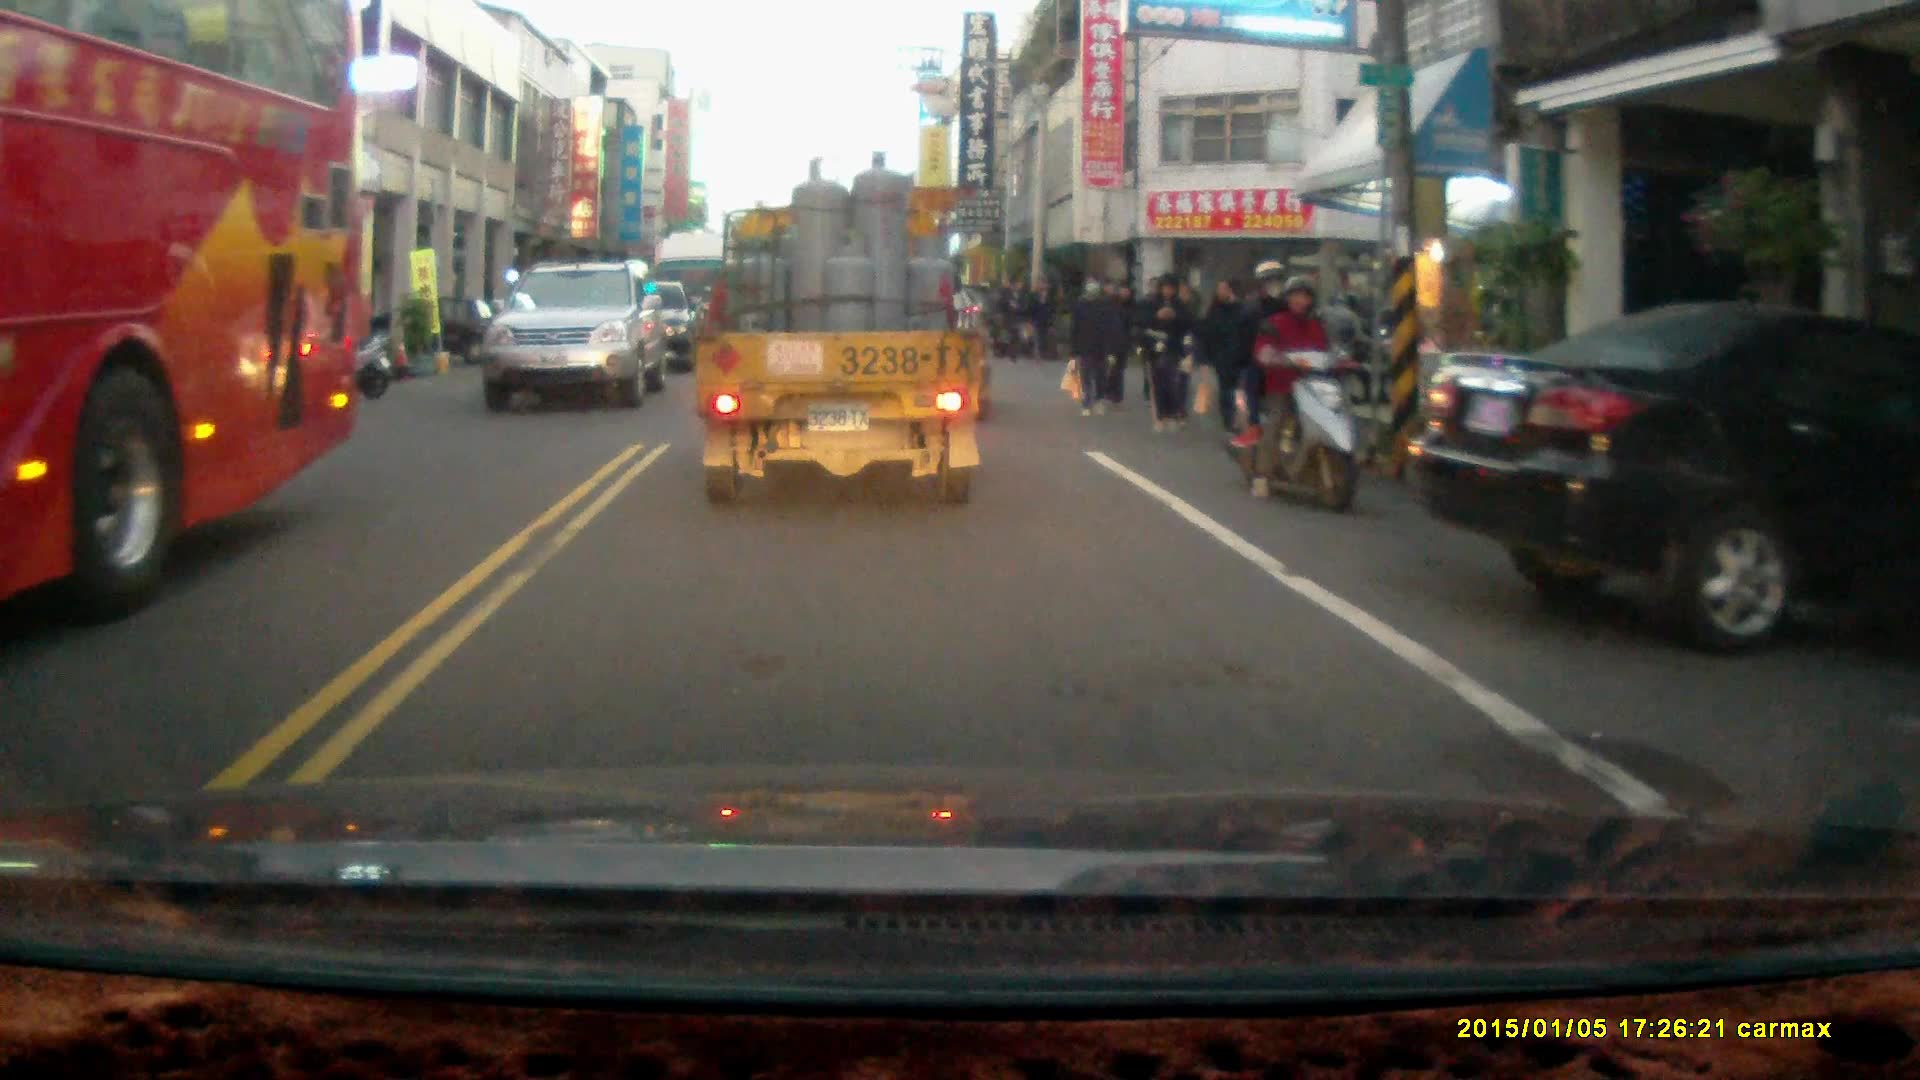pedestrian: (1192, 276, 1254, 440), (1145, 271, 1192, 436), (1068, 274, 1117, 419), (1096, 284, 1137, 411), (1024, 276, 1056, 368), (999, 275, 1031, 365)
rider: (1217, 259, 1359, 513)
vehicle: (1, 7, 361, 628), (1412, 302, 1920, 661), (697, 154, 988, 515), (488, 263, 675, 416)
